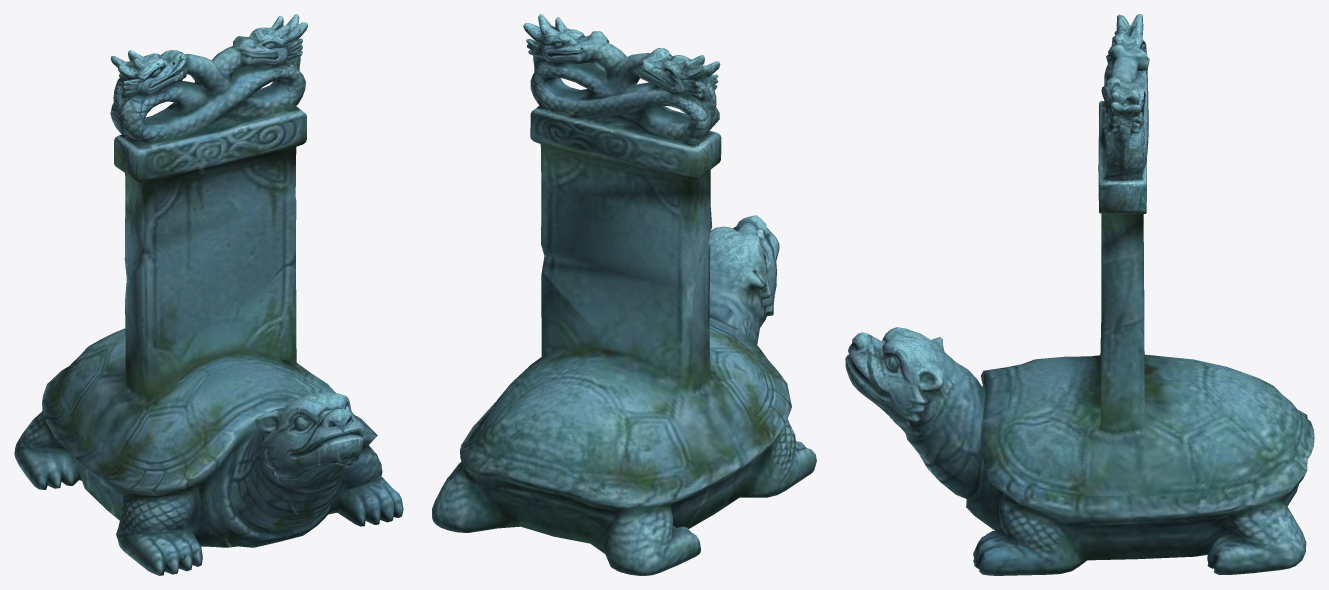
3 views of the same model, side by side, from view 1: azimuth 30°, elevation 25°; view 2: azimuth 150°, elevation 25°; view 3: azimuth 270°, elevation 25° (orthographic).
Visible parts, largest first — view 1: tripo_node_6e751c99-cea0-4785-94d9-5d7b72a688d6; view 2: tripo_node_6e751c99-cea0-4785-94d9-5d7b72a688d6; view 3: tripo_node_6e751c99-cea0-4785-94d9-5d7b72a688d6.
Part boxes in pixels (x1,y1,x2,y2): tripo_node_6e751c99-cea0-4785-94d9-5d7b72a688d6: (14, 14, 403, 575); tripo_node_6e751c99-cea0-4785-94d9-5d7b72a688d6: (432, 14, 816, 575); tripo_node_6e751c99-cea0-4785-94d9-5d7b72a688d6: (845, 14, 1314, 575).
Bounding box in the file's own units: 0.5776 × 0.9995 × 0.9243.
Materials: 1 (1 with a texture image).
